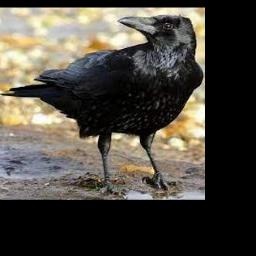Crow: (0, 14, 203, 195)
